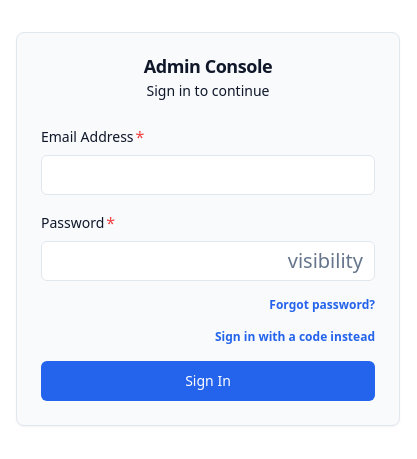
Test: LoginForm › renders the translated message for inactive
Type "a@b.io" into the field labelled "Email Address" at (208, 175), box [41,155,375,195]
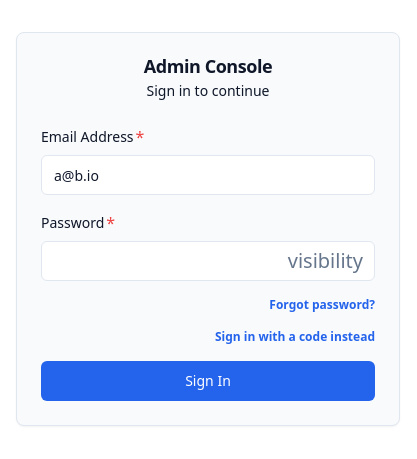
Type "pw" into the password field labelled "Password" at (208, 261), box [41,241,375,281]
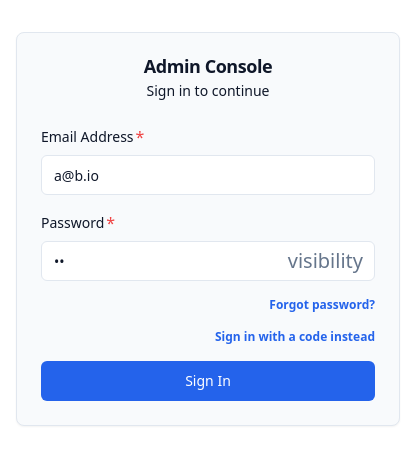
Submit the form, box [41,125,375,401]
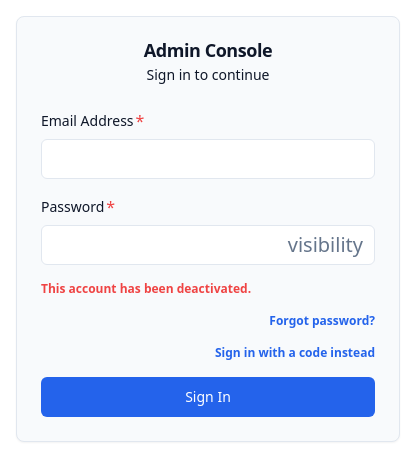
Now the text with test id "login-error" reads "This account has been deactivated.", box [41,280,251,297]
